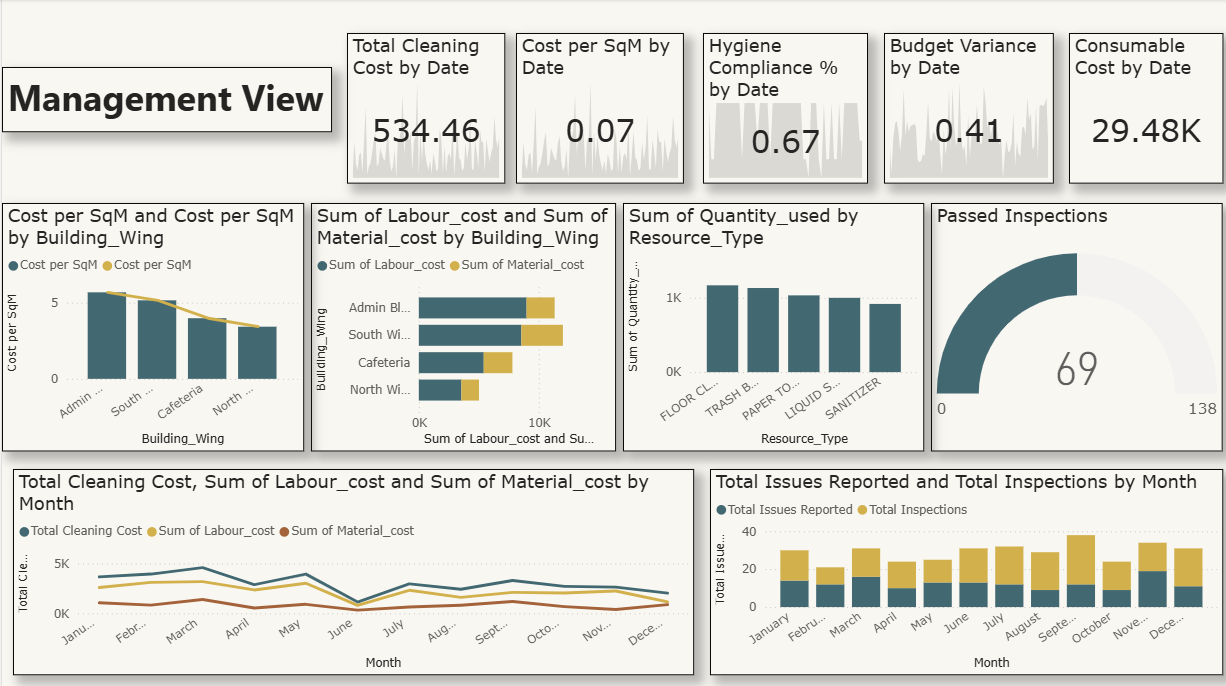

This screenshot's page, from the dashboard's own definition file:
{"tool":"powerbi","page":{"name":"Management View","canvas":[1280,720],"ordinal":1},"visuals":[{"type":"kpi","title":"Total Cleaning Cost","fields":{"Indicator":["_key_measures_.Total Cleaning Cost"],"TrendLine":["Master_Date.Date"]},"box":[359.6,35.4,164.7,157.4],"z":0},{"type":"kpi","title":"Consumable Cost by","fields":{"Indicator":["_key_measures_.Consumable Cost"],"TrendLine":["Master_Date.Date"]},"box":[911,35.4,160.5,157.4],"z":2000},{"type":"kpi","title":"Cost per SqM","fields":{"Indicator":["_key_measures_.Cost per SqM"],"TrendLine":["Master_Date.Date"]},"box":[535.8,35.4,175.1,157.4],"z":3000},{"type":"kpi","title":"Hygiene Compliance ","fields":{"Indicator":["_key_measures_.Hygiene Compliance %"],"TrendLine":["Master_Date.Date"]},"box":[730.7,35.4,172,157.4],"z":4000},{"type":"lineChart","title":"Total Cleaning, Labor and Material Cost","fields":{"Category":["Master_Date.Date.Variation.Date Hierarchy.Month"],"Y":["_key_measures_.Total Cleaning Cost","Sum(financials_cleaned.Labour_cost)","Sum(financials_cleaned.Material_cost)"]},"box":[11.5,489.9,709.8,214.7],"z":5000},{"type":"barChart","title":"Labour and Material cost by Building (USD)","fields":{"Category":["dim_building.Building_Wing"],"Y":["Sum(financials_cleaned.Labour_cost)","Sum(financials_cleaned.Material_cost)"]},"box":[450.3,212.6,424.2,258.5],"z":6000},{"type":"columnChart","title":"Cost by Building Wing (USD)","fields":{"Category":["dim_building.Building_Wing"],"Y":["_key_measures_.Cost per SqM"]},"box":[0,212.6,420.1,258.5],"z":7000},{"type":"gauge","fields":{"Y":["_key_measures_.Passed Inspections"]},"box":[1079.9,35.4,200.1,157.4],"z":8000},{"type":"lineStackedColumnComboChart","title":"Issues Reported and Inspections","fields":{"Category":["Master_Date.Date.Variation.Date Hierarchy.Month"],"Y":["_key_measures_.Total Issues Reported","_key_measures_.Total Inspections"]},"box":[738,489.9,534.7,214.7],"z":9000},{"type":"lineStackedColumnComboChart","title":"Resources Quantity","fields":{"Y":["Sum(fvr_abd consumables.Quantity_used)"],"Category":["fvr_abd consumables.Resource_Type"]},"box":[902.7,212.6,370,258.5],"z":10000},{"type":"textbox","box":[0,70.9,344,67.8],"z":11000}]}

Visuals, with their boxes in screenshot pixels (x1, y1, x2, y2), scaled from the page's 1280x720 canvas onto the 1226x686 screenshot:
"Total Cleaning Cost" kpi: 344,34,502,184
"Consumable Cost by" kpi: 873,34,1026,184
"Cost per SqM" kpi: 513,34,681,184
"Hygiene Compliance " kpi: 700,34,865,184
"Total Cleaning, Labor and Material Cost" lineChart: 11,467,691,671
"Labour and Material cost by Building (USD)" barChart: 431,203,838,449
"Cost by Building Wing (USD)" columnChart: 0,203,402,449
gauge - _key_measures_.Passed Inspections: 1034,34,1225,184
"Issues Reported and Inspections" lineStackedColumnComboChart: 707,467,1219,671
"Resources Quantity" lineStackedColumnComboChart: 865,203,1219,449
textbox: 0,68,329,132
